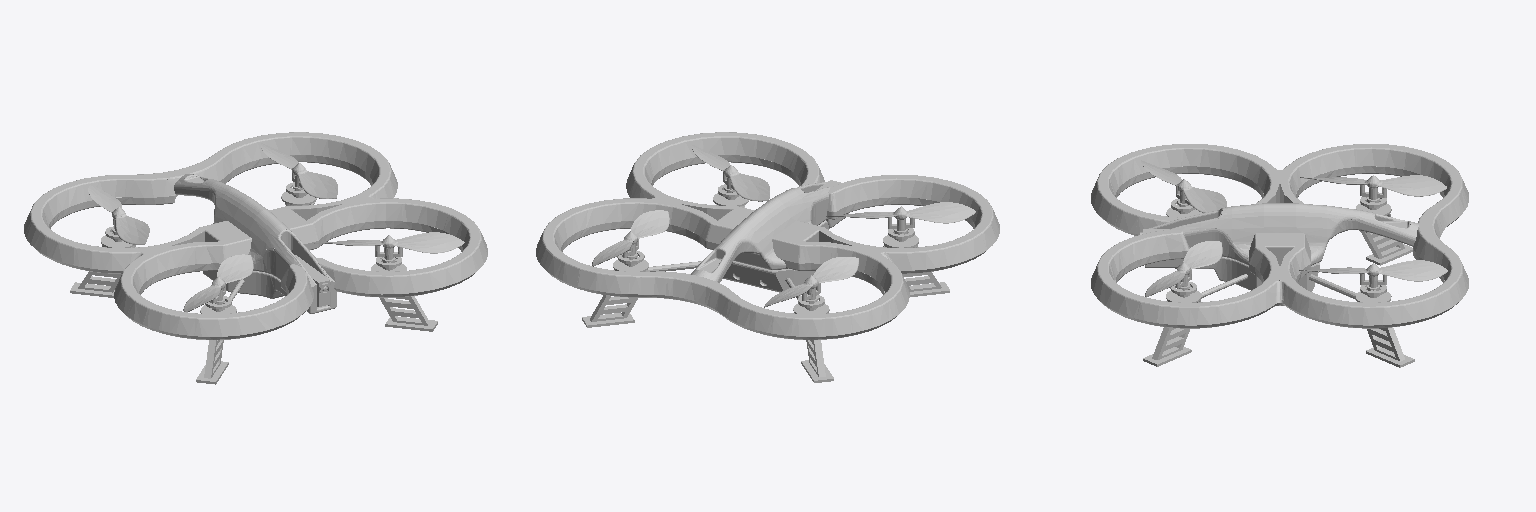
File: quadcop02.obj
3 renders of one model, left to right at view 1: azimuth 30°, elevation 25°; view 2: azimuth 150°, elevation 25°; view 3: azimuth 270°, elevation 25°, orthographic.
Visible parts, largest first — view 1: Mesh_0; view 2: Mesh_0; view 3: Mesh_0.
Part boxes in pixels (x1,y1,x2,y2): Mesh_0: (24, 132, 487, 384); Mesh_0: (536, 132, 999, 382); Mesh_0: (1091, 144, 1468, 367).
Bounding box in the file's own units: 3.5 × 1 × 3.3.